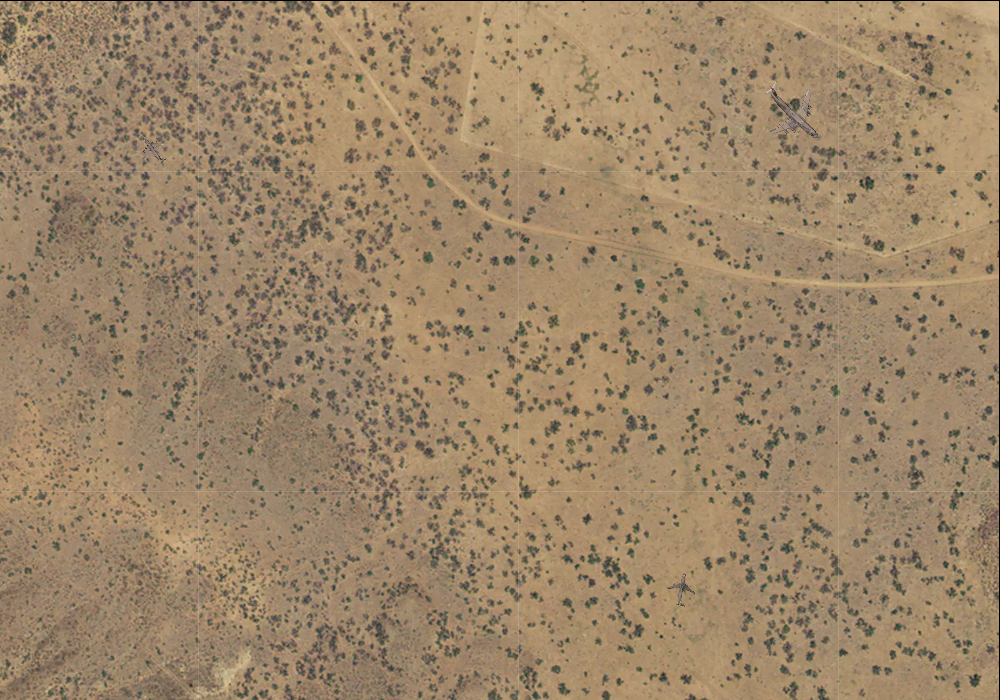plane: (744, 62, 843, 161), (131, 126, 175, 171), (663, 570, 701, 609)
